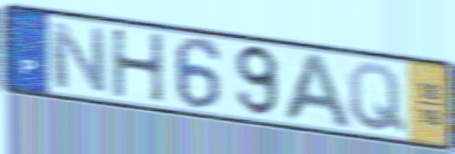6: (172, 35, 224, 113)
9: (232, 42, 283, 120)
A: (278, 51, 355, 132)
H: (108, 27, 167, 105)
N: (47, 19, 110, 97)
Q: (346, 60, 409, 136)
